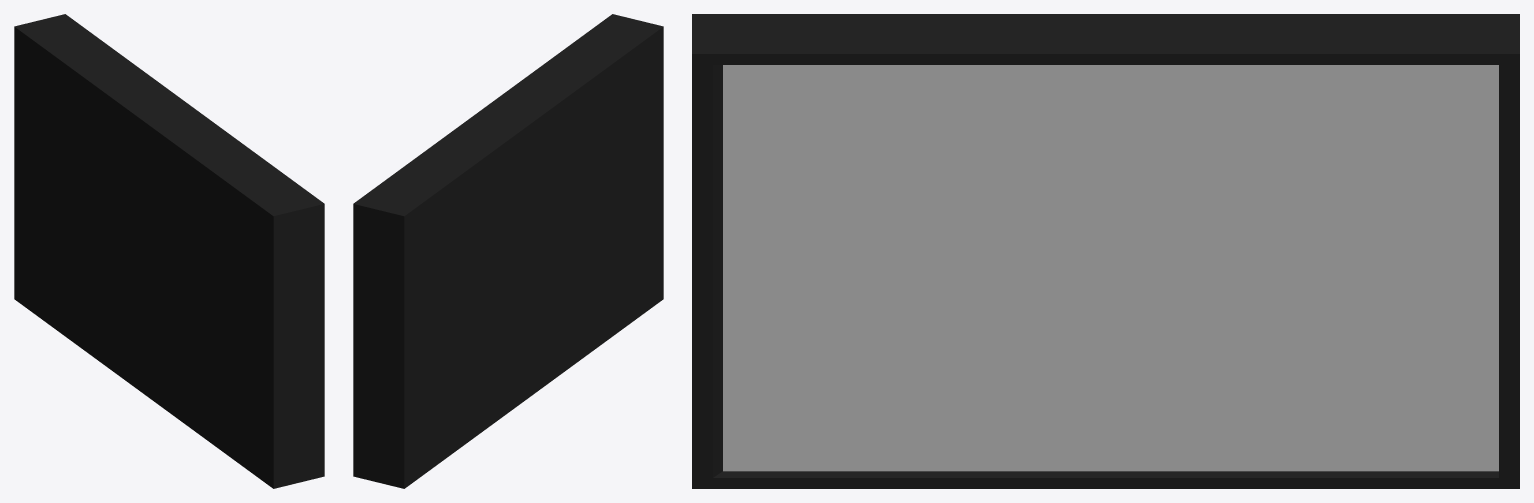
The model's file is wyswietlacz.fbx.
3 views of the same model, side by side, from view 1: azimuth 30°, elevation 25°; view 2: azimuth 150°, elevation 25°; view 3: azimuth 270°, elevation 25° (orthographic). The views are drawn at different scales.
Parts seen in each view (by area): view 1: wyswietlacz; view 2: wyswietlacz; view 3: wyswietlacz.
Part boxes in pixels (x1,y1,x2,y2): wyswietlacz: [14, 14, 324, 488]; wyswietlacz: [353, 14, 663, 488]; wyswietlacz: [692, 14, 1519, 488].
Bounding box in the file's own units: 87.66 × 446 × 769.
